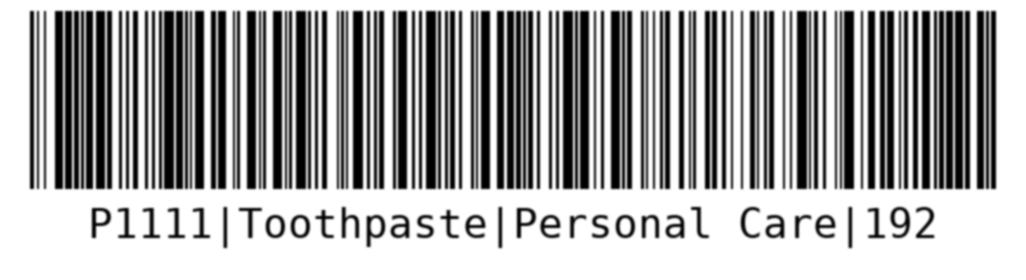milk: (22, 7, 1002, 264)
